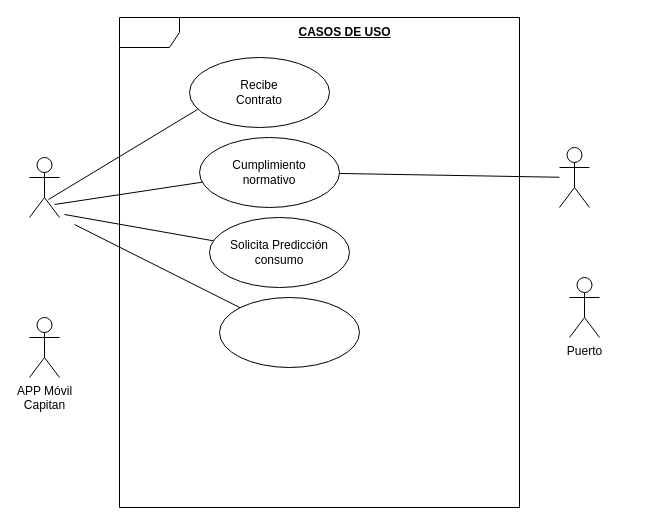
This 646x525 diagram has some shape labels left out. The centre of each missing label's shape, as x and y in pixels:
"OMI (Externo al Sistema)" goes at (574,177).
"Operador" goes at (44,187).
"Solicita Predicción Certificado CII" goes at (289,332).
